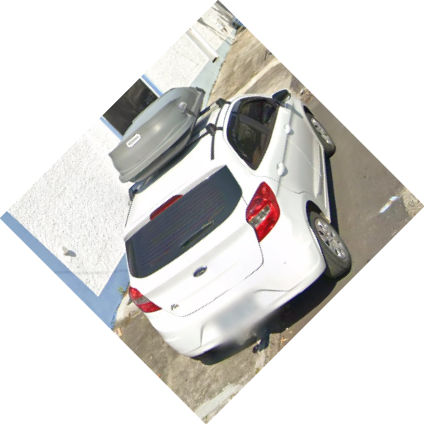car: (105, 85, 353, 361)
